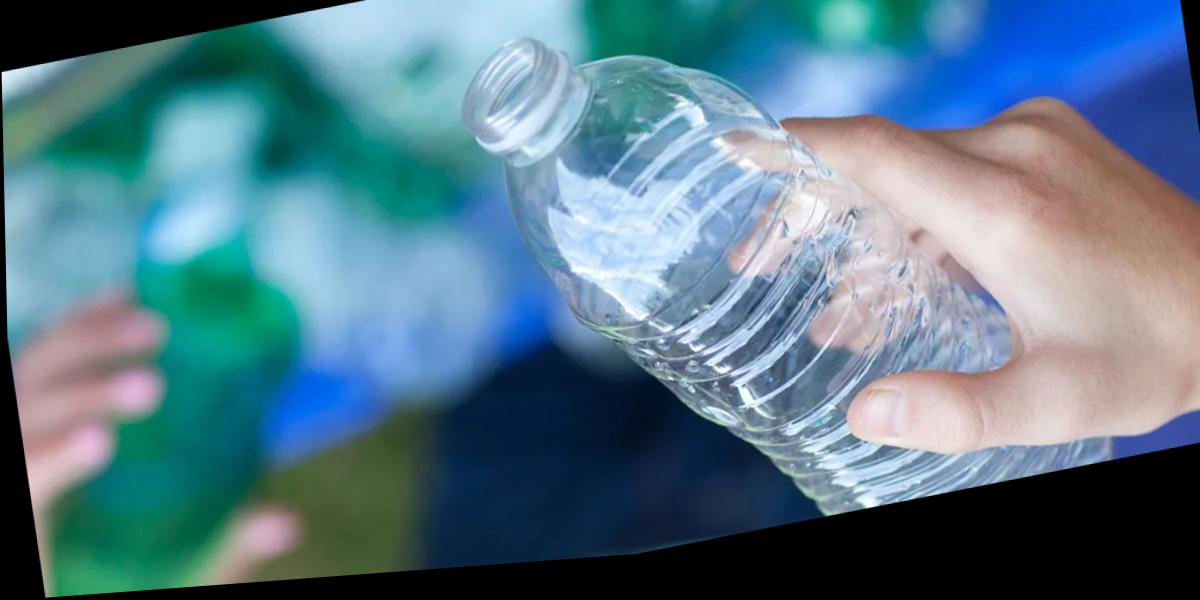plastic: (464, 38, 1067, 511)
